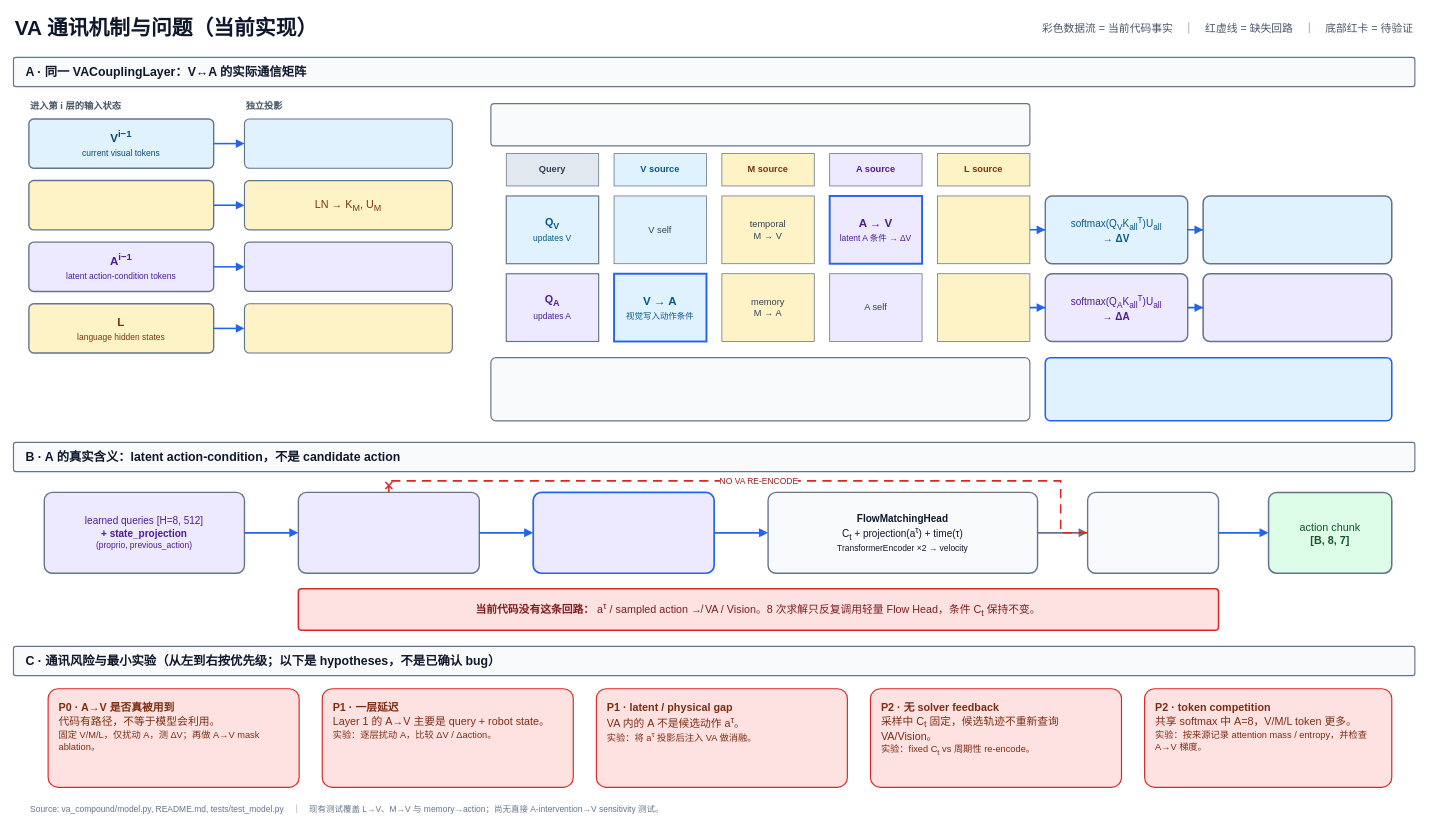
This 1429x830 diagram has some shape labels left out. Here are the shapes that lost their labels. From the top down, the centre of each, then its label:
At pixel 348 143: "LN → Q V , K V , U V".
At pixel 760 124: "共享 Attention：Q=[Q V ; Q A ]，K/U=[V; M; A; L] · 行 = Query 角色".
At pixel 121 204: "M t−1 i previous visual memory · t=0 absent".
At pixel 983 229: "goal L → V".
At pixel 1297 229: "Residual + FFN V i → next layer; → M t i".
At pixel 348 266: "LN → Q A , K A , U A".
At pixel 983 307: "goal L → A".
At pixel 1297 307: "Residual + FFN A i → next layer; A 4 → C t".
At pixel 348 328: "LN → cached K L i , U L i".
At pixel 760 389: "Role mask bidir_va：Q V / Q A 都可读取 V,M,A,L ｜ uni_a：Q V 只能读取当前 V；Q A 仍读取全部来源".
At pixel 1218 389: "关键时序事实 同层 V i 与 A i 都由旧的 V i−1 / A i−1 并行算出；新状态要到 Layer i+1 才再次互相读取。".
At pixel 388 532: "VA layers ×4 latent A tokens read V / M / A / L".
At pixel 623 532: "C t = LN(A 4 ) [B, 8, 512] computed once / observation".
At pixel 1153 532: "Euler ×8 (default) reuse fixed C t".
